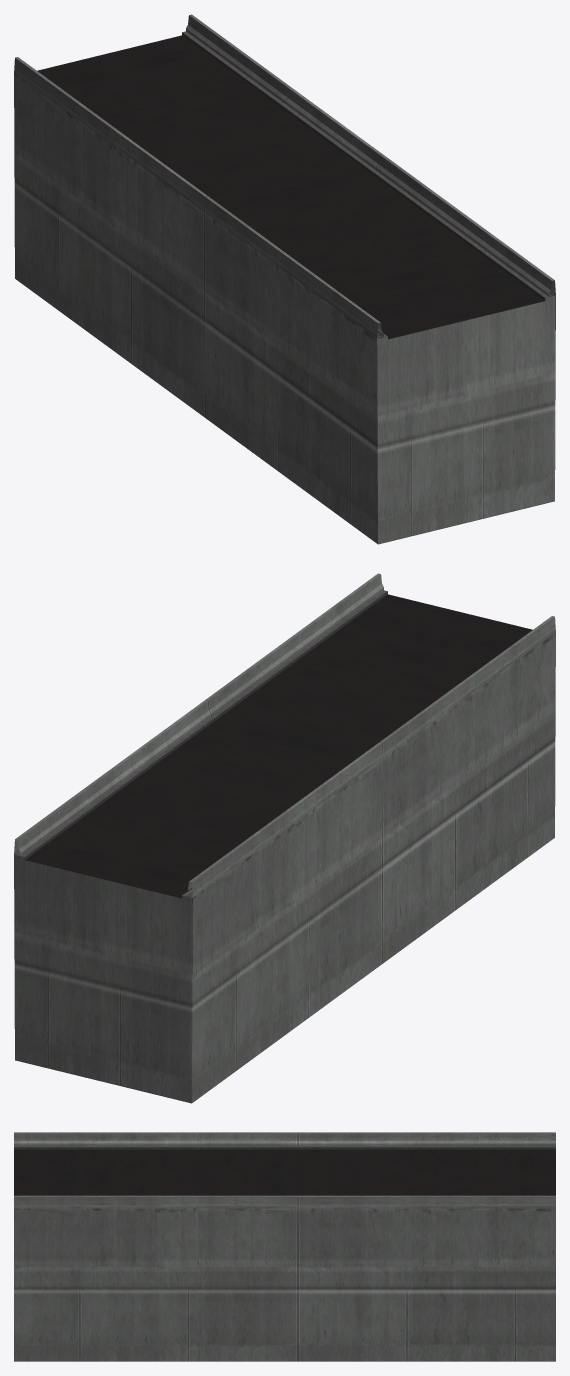
File: RJs_Road Slim 2+2 Elevated Node.fbx
The picture shows the model from 3 angles, top to bottom: view 1: azimuth 30°, elevation 25°; view 2: azimuth 150°, elevation 25°; view 3: azimuth 270°, elevation 25°; orthographic projection. The views are drawn at different scales.
Parts seen in each view (by area): view 1: plane; view 2: plane; view 3: plane.
Boxes of the visible parts, x1,y1,x2,y2 form: plane: (14, 14, 555, 544); plane: (14, 573, 555, 1103); plane: (14, 1132, 555, 1361).
Bounding box in the file's own units: 1820 × 2150 × 6400.
